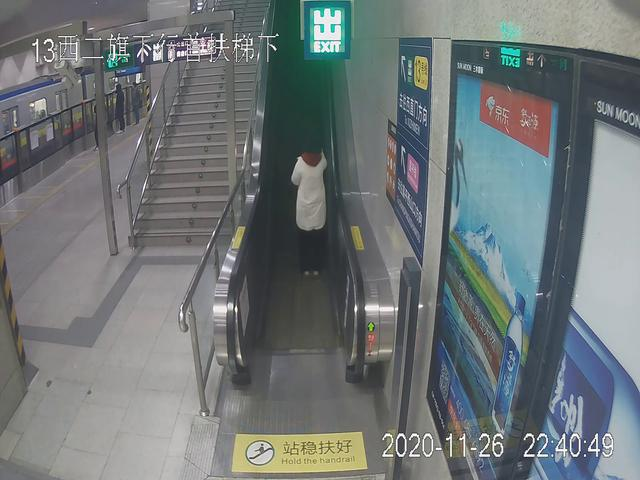person: (287, 127, 331, 278), (115, 79, 125, 134)
